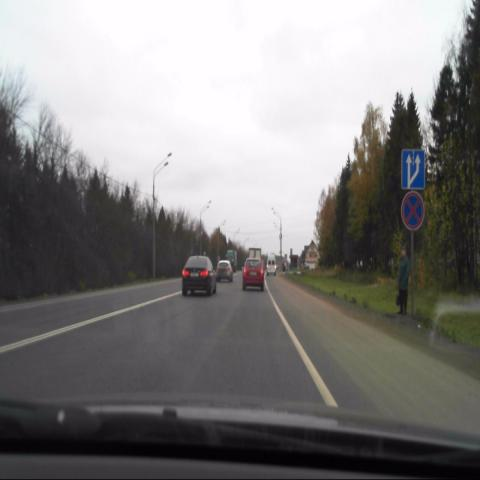3_27: (401, 190, 426, 233)
5_15_3: (401, 148, 425, 188)
